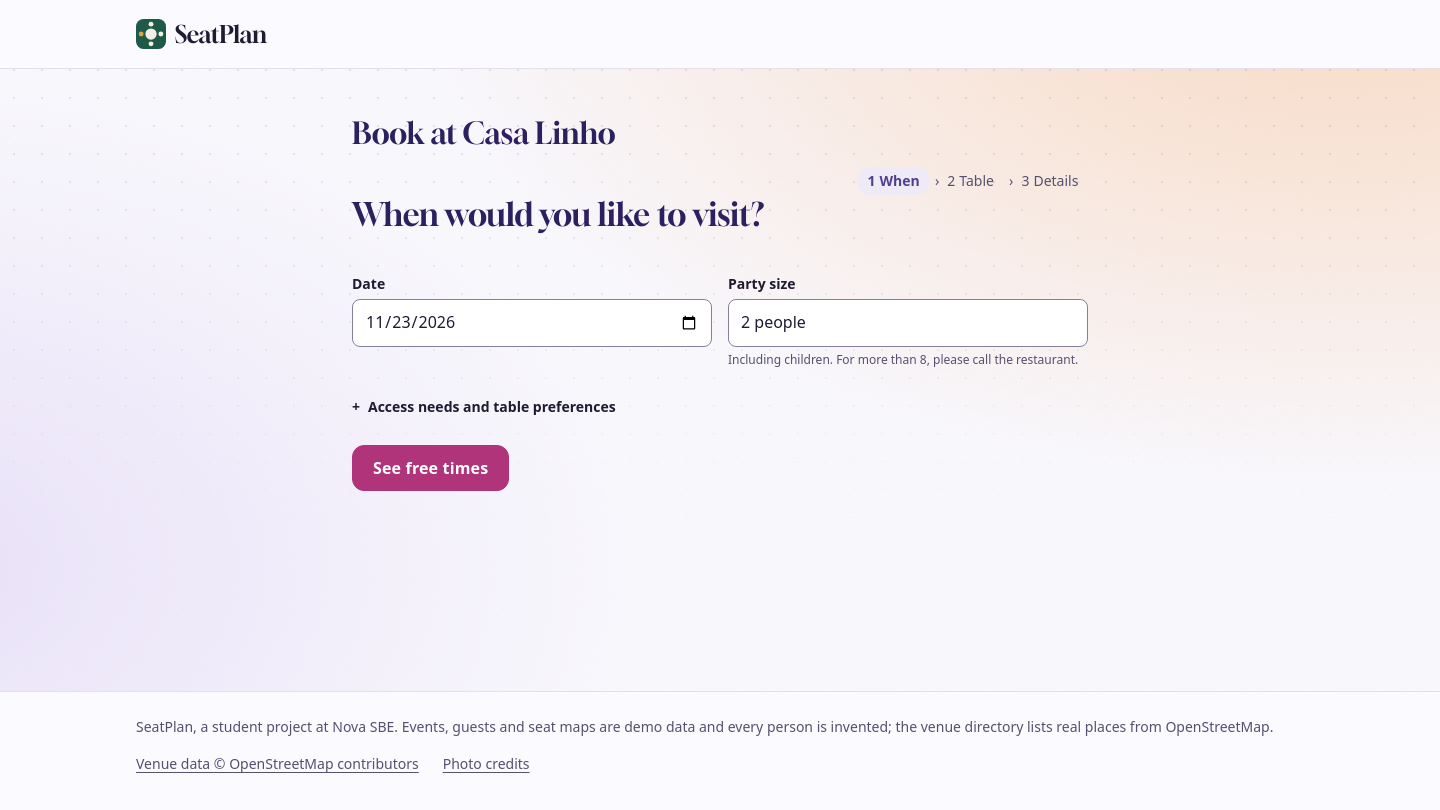
Test case: Booking page › says the day is over when every time has passed, instead of offering waitlists
Click the button "See free times" at (431, 468), box [352,445,509,491]
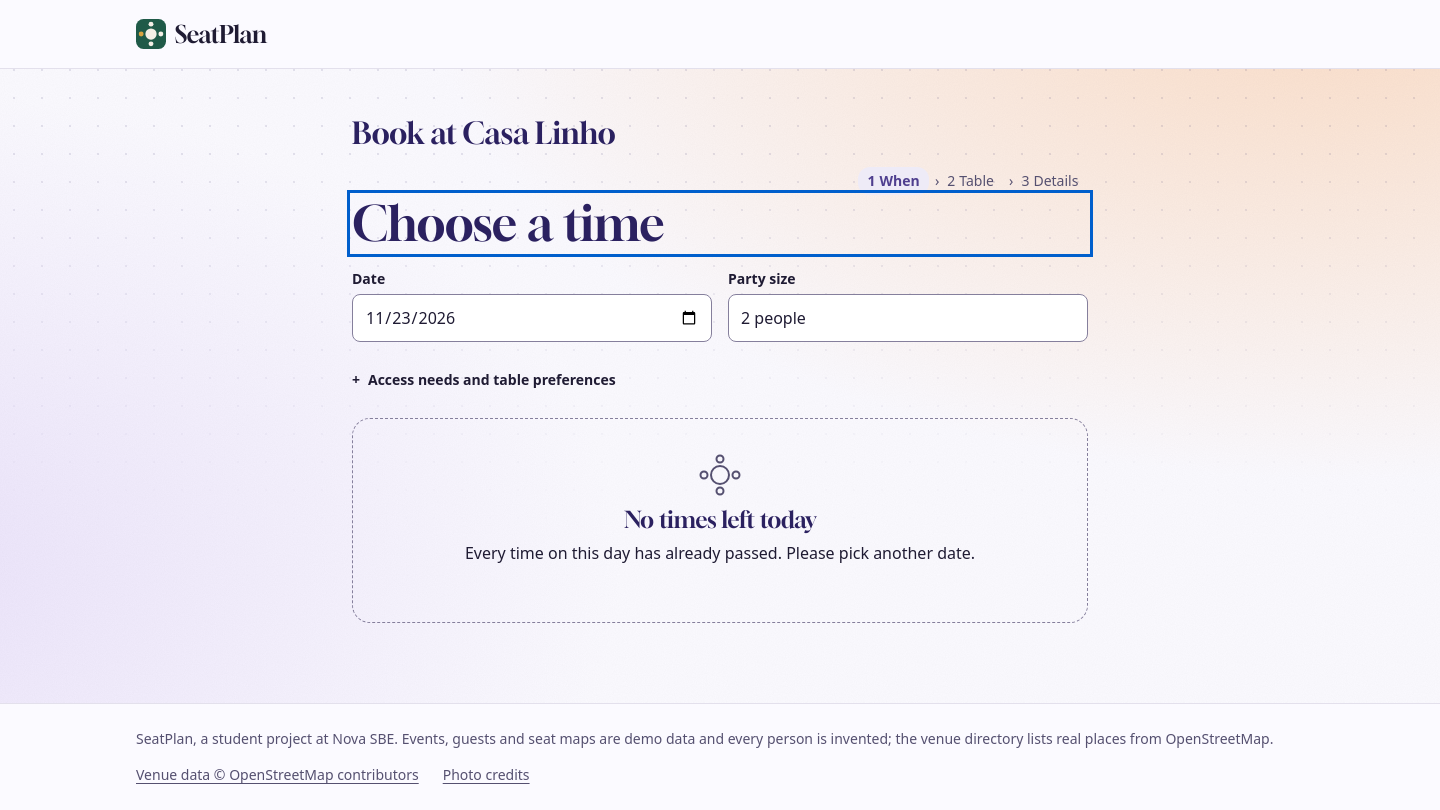
Expected: the heading "No times left today" is shown, [624,507,816,533]
